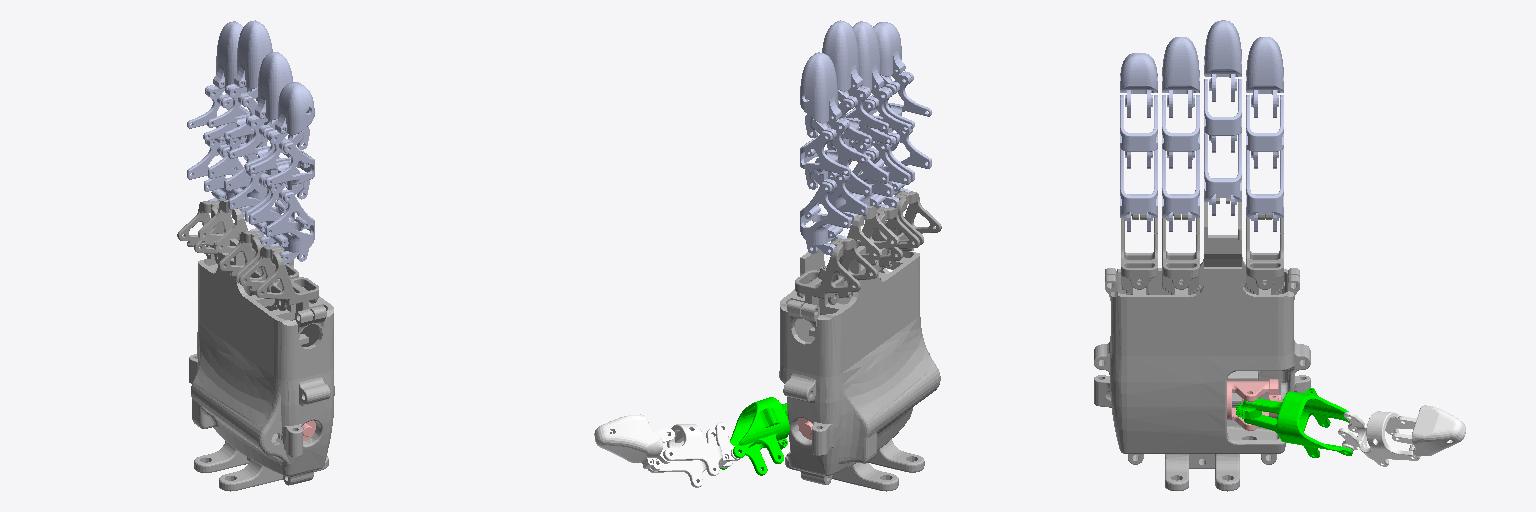
--- What the picture shows (computed from the rendered views, not written in the file) ---
3 views of the same robot in one strip: view 1: azimuth 30°, elevation 25°; view 2: azimuth 150°, elevation 25°; view 3: azimuth 270°, elevation 25° (orthographic).
Model Assem_Krysalis_2.0_w_tip with 25 links and 24 joints (19 revolute, 5 fixed), rooted at Palm, posed all joints at 0.
Links seen in each view (by area): view 1: Palm, P_B_MCP, P_MCP, P_PIP, P_DIP, M_DIP, R_DIP, I_DIP, R_B_MCP, M_PIP, M_MCP, R_MCP (+4 smaller); view 2: Palm, TH_MCP, TH_CMC, I_B_MCP, I_DIP, TH_IP, I_MCP, I_PIP, M_DIP, R_DIP, P_DIP, M_PIP (+7 smaller); view 3: Palm, TH_CMC, TH_MCP, M_DIP, I_DIP, R_DIP, TH_IP, I_B_MCP, R_B_MCP, P_B_MCP, P_DIP, M_MCP (+8 smaller).
Link boxes in pixels (x1=…): Palm: x1=189, y1=200, x2=334, y2=491; P_B_MCP: x1=239, y1=246, x2=318, y2=319; P_MCP: x1=249, y1=181, x2=314, y2=262; P_PIP: x1=249, y1=130, x2=314, y2=200; P_DIP: x1=268, y1=82, x2=314, y2=150; M_DIP: x1=227, y1=20, x2=272, y2=104; R_DIP: x1=248, y1=52, x2=292, y2=135; I_DIP: x1=207, y1=21, x2=246, y2=104; R_B_MCP: x1=218, y1=231, x2=298, y2=306; M_PIP: x1=207, y1=84, x2=267, y2=147; M_MCP: x1=208, y1=139, x2=266, y2=216; R_MCP: x1=228, y1=166, x2=294, y2=246; Palm: x1=779, y1=205, x2=940, y2=491; TH_MCP: x1=648, y1=422, x2=740, y2=487; TH_CMC: x1=720, y1=397, x2=789, y2=475; I_B_MCP: x1=795, y1=238, x2=877, y2=314; I_DIP: x1=800, y1=52, x2=847, y2=139; TH_IP: x1=594, y1=414, x2=674, y2=470; I_MCP: x1=800, y1=171, x2=867, y2=255; I_PIP: x1=800, y1=118, x2=867, y2=190; M_DIP: x1=822, y1=20, x2=868, y2=106; R_DIP: x1=848, y1=21, x2=889, y2=107; P_DIP: x1=873, y1=22, x2=911, y2=92; M_PIP: x1=827, y1=86, x2=888, y2=151; Palm: x1=1094, y1=198, x2=1310, y2=491; TH_CMC: x1=1236, y1=388, x2=1352, y2=457; TH_MCP: x1=1338, y1=411, x2=1419, y2=466; M_DIP: x1=1204, y1=20, x2=1241, y2=101; I_DIP: x1=1246, y1=37, x2=1283, y2=117; R_DIP: x1=1162, y1=37, x2=1199, y2=117; TH_IP: x1=1392, y1=405, x2=1465, y2=457; I_B_MCP: x1=1245, y1=214, x2=1284, y2=294; R_B_MCP: x1=1162, y1=214, x2=1200, y2=294; P_B_MCP: x1=1121, y1=214, x2=1157, y2=294; P_DIP: x1=1120, y1=53, x2=1157, y2=117; M_MCP: x1=1204, y1=132, x2=1241, y2=215.
Size in the robot's own frame: 0.1072 by 0.187 by 0.247 metres.
25 mesh visuals loaded from 25 distinct referenced files (25 binary STL).

robot.urdf — Assem_Krysalis_2.0_w_tip:
<?xml version="1.0" encoding="utf-8"?>
<!-- This URDF was automatically created by SolidWorks to URDF Exporter! Originally created by Stephen Brawner ([email redacted]) 
     Commit Version: 1.6.0-4-g7f85cfe  Build Version: 1.6.7995.38578
     For more information, please see http://wiki.ros.org/sw_urdf_exporter -->
<robot
  name="Assem_Krysalis_2.0_w_tip">
  <link
    name="Palm">
    <inertial>
      <origin
        xyz="-0.00336112751246301 -0.00126204820328389 0.0509765107252153"
        rpy="0 0 0" />
      <mass
        value="0.0960418153856286" />
      <inertia
        ixx="0.000187370317748953"
        ixy="2.19686404004751E-06"
        ixz="-2.35603846987126E-06"
        iyy="0.000131772316955808"
        iyz="-4.63319480413356E-06"
        izz="9.10279761405657E-05" />
    </inertial>
    <visual>
      <origin
        xyz="0 0 0"
        rpy="0 0 0" />
      <geometry>
        <mesh
          filename="Palm.STL" />
      </geometry>
      <material
        name="">
        <color
          rgba="0.752941176470588 0.752941176470588 0.752941176470588 1" />
      </material>
    </visual>
    <collision>
      <origin
        xyz="0 0 0"
        rpy="0 0 0" />
      <geometry>
        <mesh
          filename="Palm.STL" />
      </geometry>
    </collision>
  </link>
  <link
    name="I_B_MCP">
    <inertial>
      <origin
        xyz="-0.000141739276416801 0.00741428154939992 0.00589412752443945"
        rpy="0 0 0" />
      <mass
        value="0.00533430916082235" />
      <inertia
        ixx="1.03059747583205E-06"
        ixy="2.85478307872704E-09"
        ixz="5.92064186876549E-09"
        iyy="6.30910248340744E-07"
        iyz="-3.2674677254038E-07"
        izz="8.35250594472787E-07" />
    </inertial>
    <visual>
      <origin
        xyz="0 0 0"
        rpy="0 0 0" />
      <geometry>
        <mesh
          filename="I_B_MCP.STL" />
      </geometry>
      <material
        name="">
        <color
          rgba="0.698039215686274 0.698039215686274 0.698039215686274 1" />
      </material>
    </visual>
    <collision>
      <origin
        xyz="0 0 0"
        rpy="0 0 0" />
      <geometry>
        <mesh
          filename="I_B_MCP.STL" />
      </geometry>
    </collision>
  </link>
  <joint
    name="Index_Below_MCP"
    type="revolute">
    <origin
      xyz="0.00025993687392397 0.0315000000002555 0.107449685587281"
      rpy="1.56837718182086 0 -1.5707963267949" />
    <parent
      link="Palm" />
    <child
      link="I_B_MCP" />
    <axis
      xyz="0 0 1" />
    <limit
      lower="0"
      upper="0.4666"
      effort="0"
      velocity="0" />
  </joint>
  <link
    name="I_MCP">
    <inertial>
      <origin
        xyz="-1.74796722927639E-05 0.0124250711743696 0.0058426315749894"
        rpy="0 0 0" />
      <mass
        value="0.00275593818403219" />
      <inertia
        ixx="3.71397884574259E-07"
        ixy="-4.41791263152425E-11"
        ixz="5.12460431930859E-11"
        iyy="2.5262105471543E-07"
        iyz="4.7152155929534E-08"
        izz="3.66972870611928E-07" />
    </inertial>
    <visual>
      <origin
        xyz="0 0 0"
        rpy="0 0 0" />
      <geometry>
        <mesh
          filename="I_MCP.STL" />
      </geometry>
      <material
        name="">
        <color
          rgba="0.796078431372549 0.823529411764706 0.937254901960784 1" />
      </material>
    </visual>
    <collision>
      <origin
        xyz="0 0 0"
        rpy="0 0 0" />
      <geometry>
        <mesh
          filename="I_MCP.STL" />
      </geometry>
    </collision>
  </link>
  <joint
    name="Index_MCP"
    type="revolute">
    <origin
      xyz="0 0.028 0.0105"
      rpy="3.13917350861575 0 3.14159265358979" />
    <parent
      link="I_B_MCP" />
    <child
      link="I_MCP" />
    <axis
      xyz="-1 0 0" />
    <limit
      lower="-1.8002"
      upper="0"
      effort="0"
      velocity="0" />
  </joint>
  <link
    name="I_PIP">
    <inertial>
      <origin
        xyz="-1.88820664745251E-05 0.0102468368049186 0.00623026074572508"
        rpy="0 0 0" />
      <mass
        value="0.00240650569109441" />
      <inertia
        ixx="2.39241320598999E-07"
        ixy="-3.26825532576825E-11"
        ixz="3.59120505827685E-11"
        iyy="2.04216942737744E-07"
        iyz="3.40554202933924E-09"
        izz="2.34949436654266E-07" />
    </inertial>
    <visual>
      <origin
        xyz="0 0 0"
        rpy="0 0 0" />
      <geometry>
        <mesh
          filename="I_PIP.STL" />
      </geometry>
      <material
        name="">
        <color
          rgba="0.796078431372549 0.823529411764706 0.937254901960784 1" />
      </material>
    </visual>
    <collision>
      <origin
        xyz="0 0 0"
        rpy="0 0 0" />
      <geometry>
        <mesh
          filename="I_PIP.STL" />
      </geometry>
    </collision>
  </link>
  <joint
    name="Index_PIP"
    type="revolute">
    <origin
      xyz="0 0.0349845407392164 4.41133227821432E-05"
      rpy="0 0 0" />
    <parent
      link="I_MCP" />
    <child
      link="I_PIP" />
    <axis
      xyz="-1 0 0" />
    <limit
      lower="-1.3104"
      upper="0"
      effort="0"
      velocity="0" />
  </joint>
  <link
    name="I_DIP">
    <inertial>
      <origin
        xyz="-1.79519038989301E-05 0.0186543055776024 0.00887453826186116"
        rpy="0 0 0" />
      <mass
        value="0.0040106245650035" />
      <inertia
        ixx="5.37384141517475E-07"
        ixy="-2.5593882302487E-10"
        ixz="-2.95170591763761E-11"
        iyy="2.03576091579686E-07"
        iyz="-6.20177032383164E-08"
        izz="5.63159387546303E-07" />
    </inertial>
    <visual>
      <origin
        xyz="0 0 0"
        rpy="0 0 0" />
      <geometry>
        <mesh
          filename="I_DIP.STL" />
      </geometry>
      <material
        name="">
        <color
          rgba="0.796078431372549 0.823529411764706 0.937254901960784 1" />
      </material>
    </visual>
    <collision>
      <origin
        xyz="0 0 0"
        rpy="0 0 0" />
      <geometry>
        <mesh
          filename="I_DIP.STL" />
      </geometry>
    </collision>
  </link>
  <joint
    name="Index_DIP"
    type="revolute">
    <origin
      xyz="0 0.028 0"
      rpy="0 0 0" />
    <parent
      link="I_PIP" />
    <child
      link="I_DIP" />
    <axis
      xyz="-1 0 0" />
    <limit
      lower="-1.1885"
      upper="0"
      effort="0"
      velocity="0" />
  </joint>
  <link
    name="I_DIP_TIP">
    <inertial>
      <origin
        xyz="-1.79519039943954E-05 -0.0208456944224019 -0.00112546173812142"
        rpy="0 0 0" />
      <mass
        value="0.0040106245650035" />
      <inertia
        ixx="5.37384141517475E-07"
        ixy="-2.55938823025823E-10"
        ixz="-2.95170591766637E-11"
        iyy="2.03576091579686E-07"
        iyz="-6.20177032383164E-08"
        izz="5.63159387546304E-07" />
    </inertial>
    <visual>
      <origin
        xyz="0 0 0"
        rpy="0 0 0" />
      <geometry>
        <mesh
          filename="I_DIP_TIP.STL" />
      </geometry>
      <material
        name="">
        <color
          rgba="0.796078431372549 0.823529411764706 0.937254901960784 1" />
      </material>
    </visual>
    <collision>
      <origin
        xyz="0 0 0"
        rpy="0 0 0" />
      <geometry>
        <mesh
          filename="I_DIP_TIP.STL" />
      </geometry>
    </collision>
  </link>
  <joint
    name="Index_DIP_Tip"
    type="fixed">
    <origin
      xyz="0 0.0395000000000044 0.00999999999998258"
      rpy="0 0 0" />
    <parent
      link="I_DIP" />
    <child
      link="I_DIP_TIP" />
    <axis
      xyz="0 0 -1" />
  </joint>
  <link
    name="M_MCP">
    <inertial>
      <origin
        xyz="0.0101136051282379 0.0123174698855538 0.00573716118976326"
        rpy="0 0 0" />
      <mass
        value="0.00272570697607332" />
      <inertia
        ixx="3.60740402441102E-07"
        ixy="-4.98136478328139E-11"
        ixz="5.84220336308727E-11"
        iyy="2.49082055341979E-07"
        iyz="4.63136314080859E-08"
        izz="3.60045799738862E-07" />
    </inertial>
    <visual>
      <origin
        xyz="0 0 0"
        rpy="0 0 0" />
      <geometry>
        <mesh
          filename="M_MCP.STL" />
      </geometry>
      <material
        name="">
        <color
          rgba="0.796078431372549 0.823529411764706 0.937254901960784 1" />
      </material>
    </visual>
    <collision>
      <origin
        xyz="0 0 0"
        rpy="0 0 0" />
      <geometry>
        <mesh
          filename="M_MCP.STL" />
      </geometry>
    </collision>
  </link>
  <joint
    name="Middle_MCP"
    type="revolute">
    <origin
      xyz="-0.0101475464129992 0.000368685088019156 0.144474971114474"
      rpy="1.5707963267949 0 1.5707963267949" />
    <parent
      link="Palm" />
    <child
      link="M_MCP" />
    <axis
      xyz="-1 0 0" />
    <limit
      lower="-1.7791"
      upper="0"
      effort="0"
      velocity="0" />
  </joint>
  <link
    name="M_PIP">
    <inertial>
      <origin
        xyz="0.0101119852813636 0.0102522061972216 0.00631470261668012"
        rpy="0 0 0" />
      <mass
        value="0.00237659123877085" />
      <inertia
        ixx="2.36205814604039E-07"
        ixy="1.6889222834855E-12"
        ixz="3.63343287776363E-11"
        iyy="2.02624850513524E-07"
        iyz="3.73991772652453E-09"
        izz="2.28945177390661E-07" />
    </inertial>
    <visual>
      <origin
        xyz="0 0 0"
        rpy="0 0 0" />
      <geometry>
        <mesh
          filename="M_PIP.STL" />
      </geometry>
      <material
        name="">
        <color
          rgba="0.792156862745098 0.819607843137255 0.933333333333333 1" />
      </material>
    </visual>
    <collision>
      <origin
        xyz="0 0 0"
        rpy="0 0 0" />
      <geometry>
        <mesh
          filename="M_PIP.STL" />
      </geometry>
    </collision>
  </link>
  <joint
    name="Middle_PIP"
    type="revolute">
    <origin
      xyz="0 0.0349845407392165 4.41133227668707E-05"
      rpy="0 0 0" />
    <parent
      link="M_MCP" />
    <child
      link="M_PIP" />
    <axis
      xyz="-1 0 0" />
    <limit
      lower="-1.2823"
      upper="0"
      effort="0"
      velocity="0" />
  </joint>
  <link
    name="M_DIP">
    <inertial>
      <origin
        xyz="0.00959086212499157 0.0186497252381327 0.00882563884040408"
        rpy="0 0 0" />
      <mass
        value="0.00393985956650398" />
      <inertia
        ixx="5.33501630331674E-07"
        ixy="-2.54150672976246E-10"
        ixz="-2.3919279800416E-11"
        iyy="2.02161704753379E-07"
        iyz="-6.16509018038548E-08"
        izz="5.59716183770947E-07" />
    </inertial>
    <visual>
      <origin
        xyz="0 0 0"
        rpy="0 0 0" />
      <geometry>
        <mesh
          filename="M_DIP.STL" />
      </geometry>
      <material
        name="">
        <color
          rgba="0.796078431372549 0.823529411764706 0.937254901960784 1" />
      </material>
    </visual>
    <collision>
      <origin
        xyz="0 0 0"
        rpy="0 0 0" />
      <geometry>
        <mesh
          filename="M_DIP.STL" />
      </geometry>
    </collision>
  </link>
  <joint
    name="Middle_DIP"
    type="revolute">
    <origin
      xyz="0.000522164976683021 0.0279999999999987 0"
      rpy="0 0 0" />
    <parent
      link="M_PIP" />
    <child
      link="M_DIP" />
    <axis
      xyz="-1 0 0" />
    <limit
      lower="-1.275"
      upper="0"
      effort="0"
      velocity="0" />
  </joint>
  <link
    name="M_DIP_TIP">
    <inertial>
      <origin
        xyz="-1.82878108103066E-05 -0.0208502747618488 -0.00117436115957867"
        rpy="0 0 0" />
      <mass
        value="0.00393985956650398" />
      <inertia
        ixx="5.33501630331674E-07"
        ixy="-2.54150672977199E-10"
        ixz="-2.39192798007306E-11"
        iyy="2.02161704753379E-07"
        iyz="-6.16509018038548E-08"
        izz="5.59716183770948E-07" />
    </inertial>
    <visual>
      <origin
        xyz="0 0 0"
        rpy="0 0 0" />
      <geometry>
        <mesh
          filename="M_DIP_TIP.STL" />
      </geometry>
      <material
        name="">
        <color
          rgba="0.796078431372549 0.823529411764706 0.937254901960784 1" />
      </material>
    </visual>
    <collision>
      <origin
        xyz="0 0 0"
        rpy="0 0 0" />
      <geometry>
        <mesh
          filename="M_DIP_TIP.STL" />
      </geometry>
    </collision>
  </link>
  <joint
    name="Middle_DIP_Tip"
    type="fixed">
    <origin
      xyz="0.00960914993580181 0.0394999999999815 0.00999999999998275"
      rpy="0 0 0" />
    <parent
      link="M_DIP" />
    <child
      link="M_DIP_TIP" />
    <axis
      xyz="0 1 0" />
  </joint>
  <link
    name="R_B_MCP">
    <inertial>
      <origin
        xyz="0.000141399891635859 0.00748571395865061 -0.00591445154809213"
        rpy="0 0 0" />
      <mass
        value="0.00533806252303627" />
      <inertia
        ixx="1.03534832027811E-06"
        ixy="-2.71242051159311E-09"
        ixz="5.52800131027795E-09"
        iyy="6.29683236221667E-07"
        iyz="3.28505951926138E-07"
        izz="8.39889440135407E-07" />
    </inertial>
    <visual>
      <origin
        xyz="0 0 0"
        rpy="0 0 0" />
      <geometry>
        <mesh
          filename="R_B_MCP.STL" />
      </geometry>
      <material
        name="">
        <color
          rgba="0.698039215686274 0.698039215686274 0.698039215686274 1" />
      </material>
    </visual>
    <collision>
      <origin
        xyz="0 0 0"
        rpy="0 0 0" />
      <geometry>
        <mesh
          filename="R_B_MCP.STL" />
      </geometry>
    </collision>
  </link>
  <joint
    name="Ring_Below_MCP"
    type="revolute">
    <origin
      xyz="0.000259936873923963 -0.0104999999997445 0.107449685587381"
      rpy="1.57321547176894 0 1.5707963267949" />
    <parent
      link="Palm" />
    <child
      link="R_B_MCP" />
    <axis
      xyz="0 0 1" />
    <limit
      lower="0"
      upper="0.4666"
      effort="0"
      velocity="0" />
  </joint>
  <link
    name="R_MCP">
    <inertial>
      <origin
        xyz="-0.000268189988785862 0.0123593741415649 0.00587054662659439"
        rpy="0 0 0" />
      <mass
        value="0.00276772093942444" />
      <inertia
        ixx="3.62933389029121E-07"
        ixy="-2.60081421661576E-11"
        ixz="4.37192595370438E-11"
        iyy="2.51940280505408E-07"
        iyz="4.48501394200219E-08"
        izz="3.63178789330109E-07" />
    </inertial>
    <visual>
      <origin
        xyz="0 0 0"
        rpy="0 0 0" />
      <geometry>
        <mesh
          filename="R_MCP.STL" />
      </geometry>
      <material
        name="">
        <color
          rgba="0.796078431372549 0.823529411764706 0.937254901960784 1" />
      </material>
    </visual>
    <collision>
      <origin
        xyz="0 0 0"
        rpy="0 0 0" />
      <geometry>
        <mesh
          filename="R_MCP.STL" />
      </geometry>
    </collision>
  </link>
  <joint
    name="Ring_MCP"
    type="revolute">
    <origin
      xyz="0 0.028 -0.0105"
      rpy="-0.00241914497404017 0 0" />
    <parent
      link="R_B_MCP" />
    <child
      link="R_MCP" />
    <axis
      xyz="-1 0 0" />
    <limit
      lower="-1.7553"
      upper="0"
      effort="0"
      velocity="0" />
  </joint>
  <link
    name="R_PIP">
    <inertial>
      <origin
        xyz="-0.000268007410874819 0.0102930001890824 0.00630516901708345"
        rpy="0 0 0" />
      <mass
        value="0.00238433770831263" />
      <inertia
        ixx="2.36357869094945E-07"
        ixy="-6.47172918518483E-12"
        ixz="1.50256635034219E-11"
        iyy="2.03192763289084E-07"
        iyz="3.38551430509482E-09"
        izz="2.30525580423152E-07" />
    </inertial>
    <visual>
      <origin
        xyz="0 0 0"
        rpy="0 0 0" />
      <geometry>
        <mesh
          filename="R_PIP.STL" />
      </geometry>
      <material
        name="">
        <color
          rgba="0.796078431372549 0.823529411764706 0.937254901960784 1" />
      </material>
    </visual>
    <collision>
      <origin
        xyz="0 0 0"
        rpy="0 0 0" />
      <geometry>
        <mesh
          filename="R_PIP.STL" />
      </geometry>
    </collision>
  </link>
  <joint
    name="Ring_PIP"
    type="revolute">
    <origin
      xyz="0 0.0349845407392164 4.41133227821432E-05"
      rpy="0 0 0" />
    <parent
      link="R_MCP" />
    <child
      link="R_PIP" />
    <axis
      xyz="-1 0 0" />
    <limit
      lower="-1.273"
      upper="0"
      effort="0"
      velocity="0" />
  </joint>
  <link
    name="R_DIP">
    <inertial>
      <origin
        xyz="-0.000268307158374044 0.0186629580233482 0.00880902140623846"
        rpy="0 0 0" />
      <mass
        value="0.00392874630789001" />
      <inertia
        ixx="5.33045817789401E-07"
        ixy="-2.55703251055339E-10"
        ixz="-2.41570158083854E-11"
        iyy="2.01759000252673E-07"
        iyz="-6.18615098701647E-08"
        izz="5.59544862841668E-07" />
    </inertial>
    <visual>
      <origin
        xyz="0 0 0"
        rpy="0 0 0" />
      <geometry>
        <mesh
          filename="R_DIP.STL" />
      </geometry>
      <material
        name="">
        <color
          rgba="0.796078431372549 0.823529411764706 0.937254901960784 1" />
      </material>
    </visual>
    <collision>
      <origin
        xyz="0 0 0"
        rpy="0 0 0" />
      <geometry>
        <mesh
          filename="R_DIP.STL" />
      </geometry>
    </collision>
  </link>
  <joint
    name="Ring_DIP"
    type="revolute">
    <origin
      xyz="0 0.028 0"
      rpy="0 0 0" />
    <parent
      link="R_PIP" />
    <child
      link="R_DIP" />
    <axis
      xyz="-1 0 0" />
    <limit
      lower="-1.2842"
      upper="0"
      effort="0"
      velocity="0" />
  </joint>
  <link
    name="R_DIP_TIP">
    <inertial>
      <origin
        xyz="-1.83071584694584E-05 -0.0208370419766526 -0.00119097859376072"
        rpy="0 0 0" />
      <mass
        value="0.00392874630789" />
      <inertia
        ixx="5.33045817789401E-07"
        ixy="-2.55703251056264E-10"
        ixz="-2.41570158086907E-11"
        iyy="2.01759000252673E-07"
        iyz="-6.18615098701647E-08"
        izz="5.59544862841668E-07" />
    </inertial>
    <visual>
      <origin
        xyz="0 0 0"
        rpy="0 0 0" />
      <geometry>
        <mesh
          filename="R_DIP_TIP.STL" />
      </geometry>
      <material
        name="">
        <color
          rgba="0.796078431372549 0.823529411764706 0.937254901960784 1" />
      </material>
    </visual>
    <collision>
      <origin
        xyz="0 0 0"
        rpy="0 0 0" />
      <geometry>
        <mesh
          filename="R_DIP_TIP.STL" />
      </geometry>
    </collision>
  </link>
  <joint
    name="RIng_DIP_Tip"
    type="fixed">
    <origin
      xyz="-0.000249999999904653 0.0395000000000008 0.00999999999999918"
      rpy="0 0 0" />
    <parent
      link="R_DIP" />
    <child
      link="R_DIP_TIP" />
    <axis
      xyz="0 1 0" />
  </joint>
  <link
    name="P_B_MCP">
    <inertial>
      <origin
        xyz="-0.000168227261900064 0.0080558990165034 -0.00620012484236257"
        rpy="0 0 0" />
      <mass
        value="0.00512816464204547" />
      <inertia
        ixx="9.99698561554399E-07"
        ixy="-2.1827826173263E-08"
        ixz="1.5608574490924E-08"
        iyy="6.10313700194574E-07"
        iyz="3.14479374134626E-07"
        izz="7.98354674262924E-07" />
    </inertial>
    <visual>
      <origin
        xyz="0 0 0"
        rpy="0 0 0" />
      <geometry>
        <mesh
          filename="P_B_MCP.STL" />
      </geometry>
      <material
        name="">
        <color
          rgba="0.698039215686274 0.698039215686274 0.698039215686274 1" />
      </material>
    </visual>
    <collision>
      <origin
        xyz="0 0 0"
        rpy="0 0 0" />
      <geometry>
        <mesh
          filename="P_B_MCP.STL" />
      </geometry>
    </collision>
  </link>
  <joint
    name="Pinky_Below_MCP"
    type="revolute">
    <origin
      xyz="0.000259936873923986 -0.0314999999997445 0.107449685587431"
      rpy="1.57321547176894 0 1.5707963267949" />
    <parent
      link="Palm" />
    <child
      link="P_B_MCP" />
    <axis
      xyz="0 0 1" />
    <limit
      lower="0"
      upper="0.6872"
      effort="0"
      velocity="0" />
  </joint>
  <link
    name="P_MCP">
    <inertial>
      <origin
        xyz="-0.000267550632622952 0.0123862744175179 0.00586908545685018"
        rpy="0 0 0" />
      <mass
        value="0.00275274176491444" />
      <inertia
        ixx="3.66134275300629E-07"
        ixy="-5.23883811398767E-11"
        ixz="5.22211426088232E-11"
        iyy="2.51982316985481E-07"
        iyz="4.56227898750705E-08"
        izz="3.63835309760419E-07" />
    </inertial>
    <visual>
      <origin
        xyz="0 0 0"
        rpy="0 0 0" />
      <geometry>
        <mesh
          filename="P_MCP.STL" />
      </geometry>
      <material
        name="">
        <color
          rgba="0.796078431372549 0.823529411764706 0.937254901960784 1" />
      </material>
    </visual>
    <collision>
      <origin
        xyz="0 0 0"
        rpy="0 0 0" />
      <geometry>
        <mesh
          filename="P_MCP.STL" />
      </geometry>
    </collision>
  </link>
  <joint
    name="Pinky_MCP"
    type="revolute">
    <origin
      xyz="0 0.0279999999999999 -0.0105"
      rpy="-0.00241914497404039 0 0" />
    <parent
      link="P_B_MCP" />
    <child
      link="P_MCP" />
    <axis
      xyz="-1 0 0" />
    <limit
      lower="-1.7269"
      upper="0"
      effort="0"
      velocity="0" />
  </joint>
  <link
    name="P_PIP">
    <inertial>
      <origin
        xyz="-0.000267209977131151 0.0103223731897579 0.00635357535735843"
        rpy="0 0 0" />
      <mass
        value="0.00237895158522026" />
      <inertia
        ixx="2.36330412400924E-07"
        ixy="1.93846338633235E-11"
        ixz="6.55050514770154E-11"
        iyy="2.0312827437442E-07"
        iyz="3.65665989773007E-09"
        izz="2.30950813603375E-07" />
    </inertial>
    <visual>
      <origin
        xyz="0 0 0"
        rpy="0 0 0" />
      <geometry>
        <mesh
          filename="P_PIP.STL" />
      </geometry>
      <material
        name="">
        <color
          rgba="0.796078431372549 0.823529411764706 0.937254901960784 1" />
      </material>
    </visual>
    <collision>
      <origin
        xyz="0 0 0"
        rpy="0 0 0" />
      <geometry>
        <mesh
          filename="P_PIP.STL" />
      </geometry>
    </collision>
  </link>
  <joint
    name="Pinky_PIP"
    type="revolute">
    <origin
      xyz="0 0.0349845407392164 4.4113322782138E-05"
      rpy="0 0 0" />
    <parent
      link="P_MCP" />
    <child
      link="P_PIP" />
    <axis
      xyz="-1 0 0" />
    <limit
      lower="-1.2573"
      upper="0"
      effort="0"
      velocity="0" />
  </joint>
  <link
    name="P_DIP">
    <inertial>
      <origin
        xyz="-0.000273126237319468 0.0152163343976934 0.00857258000184557"
        rpy="0 0 0" />
      <mass
        value="0.00310861642518284" />
      <inertia
        ixx="3.02201531520069E-07"
        ixy="-7.85838748466127E-12"
        ixz="-7.08860806047092E-12"
        iyy="1.5637778832014E-07"
        iyz="-4.50241053706585E-08"
        izz="3.2115593985531E-07" />
    </inertial>
    <visual>
      <origin
        xyz="0 0 0"
        rpy="0 0 0" />
      <geometry>
        <mesh
          filename="P_DIP.STL" />
      </geometry>
      <material
        name="">
        <color
          rgba="0.796078431372549 0.823529411764706 0.937254901960784 1" />
      </material>
    </visual>
    <collision>
      <origin
        xyz="0 0 0"
        rpy="0 0 0" />
      <geometry>
        <mesh
          filename="P_DIP.STL" />
      </geometry>
    </collision>
  </link>
  <joint
    name="Pinky_DIP"
    type="revolute">
    <origin
      xyz="0 0.028 0"
      rpy="0 0 0" />
    <parent
      link="P_PIP" />
    <child
      link="P_DIP" />
    <axis
      xyz="-1 0 0" />
    <limit
      lower="-1.2577"
      upper="0"
      effort="0"
      velocity="0" />
  </joint>
  <link
    name="P_DIP_TIP">
    <inertial>
      <origin
        xyz="-2.31262373931312E-05 -0.0152836656023072 -0.00142741999815443"
        rpy="0 0 0" />
      <mass
        value="0.00310861642518284" />
      <inertia
        ixx="3.02201531520069E-07"
        ixy="-7.85838748500904E-12"
        ixz="-7.08860806069732E-12"
        iyy="1.5637778832014E-07"
        iyz="-4.50241053706585E-08"
        izz="3.2115593985531E-07" />
    </inertial>
    <visual>
      <origin
        xyz="0 0 0"
        rpy="0 0 0" />
      <geometry>
        <mesh
          filename="P_DIP_TIP.STL" />
      </geometry>
      <material
        name="">
        <color
          rgba="0.796078431372549 0.823529411764706 0.937254901960784 1" />
      </material>
    </visual>
    <collision>
      <origin
        xyz="0 0 0"
        rpy="0 0 0" />
      <geometry>
        <mesh
          filename="P_DIP_TIP.STL" />
      </geometry>
    </collision>
  </link>
  <joint
    name="Pinky_DIP_Tip"
    type="fixed">
    <origin
      xyz="-0.000249999999926379 0.0305000000000006 0.01"
      rpy="0 0 0" />
    <parent
      link="P_DIP" />
    <child
      link="P_DIP_TIP" />
    <axis
      xyz="0 1 0" />
  </joint>
  <link
    name="TH_P_S">
    <inertial>
      <origin
        xyz="0.000406645793325129 -0.0013353282589149 0.000120665994461477"
        rpy="0 0 0" />
      <mass
        value="0.0104013413330721" />
      <inertia
        ixx="3.27135341496589E-06"
        ixy="-9.7838050610371E-08"
        ixz="-7.00108306196223E-10"
        iyy="5.42061188234071E-07"
        iyz="2.53068076236895E-08"
        izz="3.50375398433683E-06" />
    </inertial>
    <visual>
      <origin
        xyz="0 0 0"
        rpy="0 0 0" />
      <geometry>
        <mesh
          filename="TH_P_S.STL" />
      </geometry>
      <material
        name="">
        <color
          rgba="1 0.752941176470588 0.752941176470588 1" />
      </material>
    </visual>
    <collision>
      <origin
        xyz="0 0 0"
        rpy="0 0 0" />
      <geometry>
        <mesh
          filename="TH_P_S.STL" />
      </geometry>
    </collision>
  </link>
  <joint
    name="Thumb_Pro_Supination"
    type="revolute">
    <origin
      xyz="8.9629E-05 0 0.03705"
      rpy="0 0 0" />
    <parent
      link="Palm" />
    <child
      link="TH_P_S" />
    <axis
      xyz="0 1 0" />
    <limit
      lower="-0.6363"
      upper="0.6363"
      effort="0"
      velocity="0" />
  </joint>
  <link
    name="TH_CMC">
    <inertial>
      <origin
        xyz="0.00168374948696134 9.82022795267476E-05 0.0218902392078611"
        rpy="0 0 0" />
      <mass
        value="0.00563563380951344" />
      <inertia
        ixx="1.26829161985642E-06"
        ixy="1.05367025662751E-08"
        ixz="-1.62375352321563E-07"
        iyy="1.22011212814819E-06"
        iyz="-2.03542346484152E-08"
        izz="5.81959411025911E-07" />
    </inertial>
    <visual>
      <origin
        xyz="0 0 0"
        rpy="0 0 0" />
      <geometry>
        <mesh
          filename="TH_CMC.STL" />
      </geometry>
      <material
        name="">
        <color
          rgba="0 1 0 1" />
      </material>
    </visual>
    <collision>
      <origin
        xyz="0 0 0"
        rpy="0 0 0" />
      <geometry>
        <mesh
          filename="TH_CMC.STL" />
      </geometry>
    </collision>
  </link>
  <joint
    name="Thumb_CMC"
    type="revolute">
    <origin
      xyz="0.01156 0.0241200000000881 0"
      rpy="1.57079632679832 0.872664625998062 2.75400953331244" />
    <parent
      link="TH_P_S" />
    <child
      link="TH_CMC" />
    <axis
      xyz="0.766044443119555 -0.642787609685852 0" />
    <limit
      lower="0"
      upper="1.8545"
      effort="0"
      velocity="0" />
  </joint>
  <link
    name="TH_MCP">
    <inertial>
      <origin
        xyz="-0.00410352367289986 -0.0188546486667915 -0.000135076167159031"
        rpy="0 0 0" />
      <mass
        value="0.00332373832678888" />
      <inertia
        ixx="5.47690075858449E-07"
        ixy="-3.06615095708694E-08"
        ixz="1.57099440931214E-10"
        iyy="3.25193587111842E-07"
        iyz="4.33023614106889E-11"
        izz="5.34108487293818E-07" />
    </inertial>
    <visual>
      <origin
        xyz="0 0 0"
        rpy="0 0 0" />
      <geometry>
        <mesh
          filename="TH_MCP.STL" />
      </geometry>
      <material
        name="">
        <color
          rgba="1 1 1 1" />
      </material>
    </visual>
    <collision>
      <origin
        xyz="0 0 0"
        rpy="0 0 0" />
      <geometry>
        <mesh
          filename="TH_MCP.STL" />
      </geometry>
    </collision>
  </link>
  <joint
    name="Thumb_MCP"
    type="revolute">
    <origin
      xyz="0.0106391616042572 0 0.0519999941010944"
      rpy="-1.5707963267949 -0.240680903850018 0" />
    <parent
      link="TH_CMC" />
    <child
      link="TH_MCP" />
    <axis
      xyz="0 0 1" />
    <limit
      lower="-1.35269"
      upper="0"
      effort="0"
      velocity="0" />
  </joint>
  <link
    name="TH_IP">
    <inertial>
      <origin
        xyz="-0.00960947728686828 -0.000136820976697368 0.0166952338806427"
        rpy="0 0 0" />
      <mass
        value="0.00421936393838756" />
      <inertia
        ixx="5.73437580240794E-07"
        ixy="-2.4223152338547E-10"
        ixz="1.09057647451357E-07"
        iyy="5.79569687911807E-07"
        iyz="1.39217579895531E-10"
        izz="3.12842615310851E-07" />
    </inertial>
    <visual>
      <origin
        xyz="0 0 0"
        rpy="0 0 0" />
      <geometry>
        <mesh
          filename="TH_IP.STL" />
      </geometry>
      <material
        name="">
        <color
          rgba="1 1 1 1" />
      </material>
    </visual>
    <collision>
      <origin
        xyz="0 0 0"
        rpy="0 0 0" />
      <geometry>
        <mesh
          filename="TH_IP.STL" />
      </geometry>
    </collision>
  </link>
  <joint
    name="Thumb_IP"
    type="revolute">
    <origin
      xyz="0 -0.04 0"
      rpy="1.5707963267949 0 -0.0694641042293601" />
    <parent
      link="TH_MCP" />
    <child
      link="TH_IP" />
    <axis
      xyz="0 1 0" />
    <limit
      lower="-0.56343"
      upper="0"
      effort="0"
      velocity="0" />
  </joint>
  <link
    name="TH_IP_TIP">
    <inertial>
      <origin
        xyz="0.00733993696143277 6.49313873241422E-06 -0.0155735597189967"
        rpy="0 0 0" />
      <mass
        value="0.00421936393838756" />
      <inertia
        ixx="5.73437580240794E-07"
        ixy="-2.42231523385312E-10"
        ixz="1.09057647451358E-07"
        iyy="5.79569687911808E-07"
        iyz="1.39217579895321E-10"
        izz="3.12842615310851E-07" />
    </inertial>
    <visual>
      <origin
        xyz="0 0 0"
        rpy="0 0 0" />
      <geometry>
        <mesh
          filename="TH_IP_TIP.STL" />
      </geometry>
      <material
        name="">
        <color
          rgba="1 1 1 1" />
      </material>
    </visual>
    <collision>
      <origin
        xyz="0 0 0"
        rpy="0 0 0" />
      <geometry>
        <mesh
          filename="TH_IP_TIP.STL" />
      </geometry>
    </collision>
  </link>
  <joint
    name="Thumb_IP_Tip"
    type="fixed">
    <origin
      xyz="-0.0169494142483011 -0.000143314115429772 0.0322687935996393"
      rpy="0 0 0" />
    <parent
      link="TH_IP" />
    <child
      link="TH_IP_TIP" />
    <axis
      xyz="0.513910672412694 0.289527962684288 0.807508129744969" />
  </joint>
</robot>
